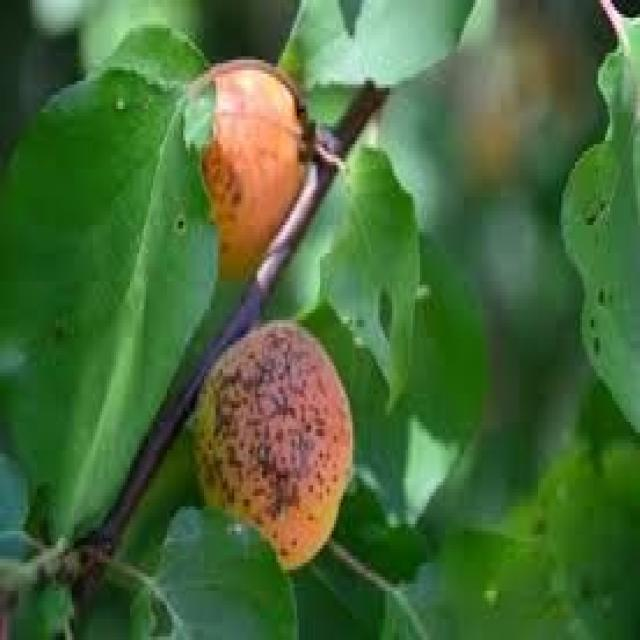kayisi: (198, 349, 388, 564), (212, 76, 302, 273)
yaprak: (0, 56, 182, 553), (330, 168, 476, 403), (410, 513, 640, 639)
